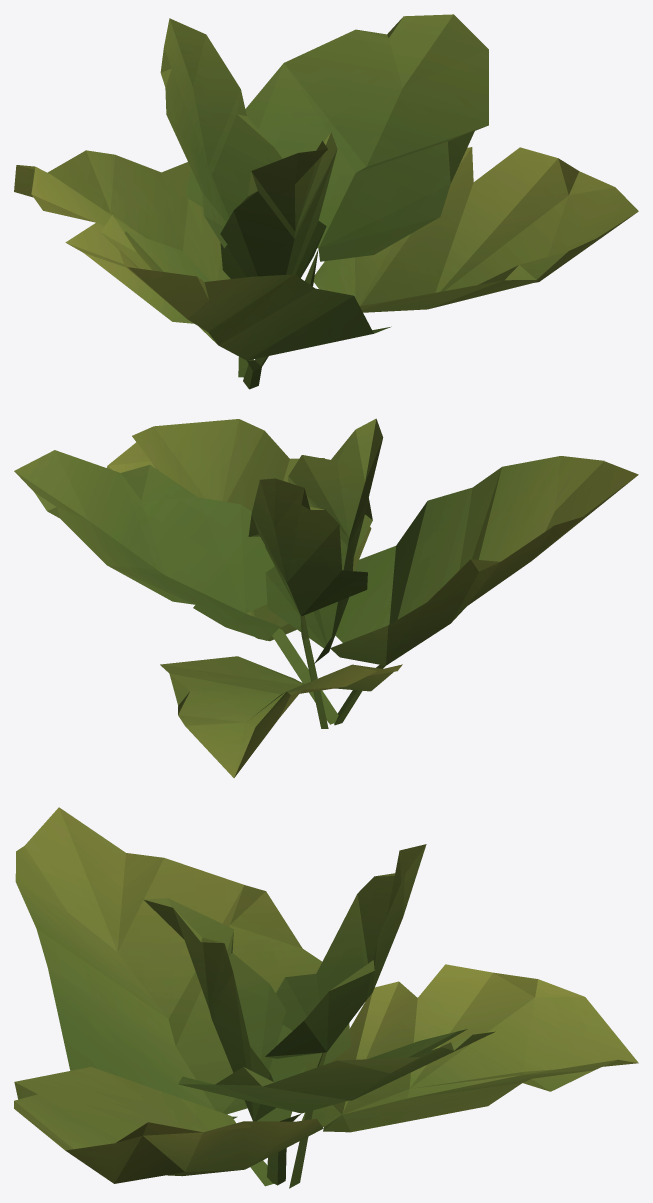
Rendered from burdock-poly.glb.
3 renders of one model, top to bottom at view 1: azimuth 30°, elevation 25°; view 2: azimuth 150°, elevation 25°; view 3: azimuth 270°, elevation 25°, orthographic. The views are drawn at different scales.
Parts seen in each view (by area): view 1: bush-burdock-generic-mature-a.001; view 2: bush-burdock-generic-mature-a.001; view 3: bush-burdock-generic-mature-a.001.
Boxes of the visible parts, x1,y1,x2,y2 form: bush-burdock-generic-mature-a.001: [14, 14, 638, 389]; bush-burdock-generic-mature-a.001: [14, 418, 638, 777]; bush-burdock-generic-mature-a.001: [14, 807, 638, 1188].
Size of the model in its own units: 1.78 by 1.05 by 1.76.
Materials: 1 (1 with a texture image).
